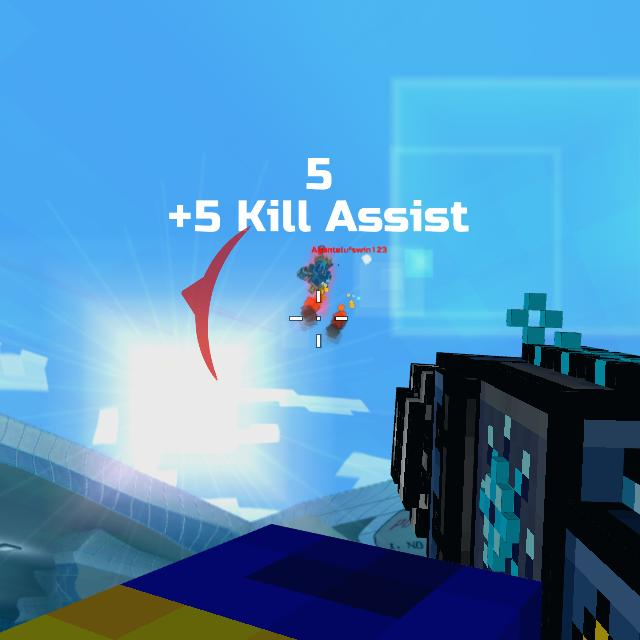Enemy: (304, 254, 332, 303)
